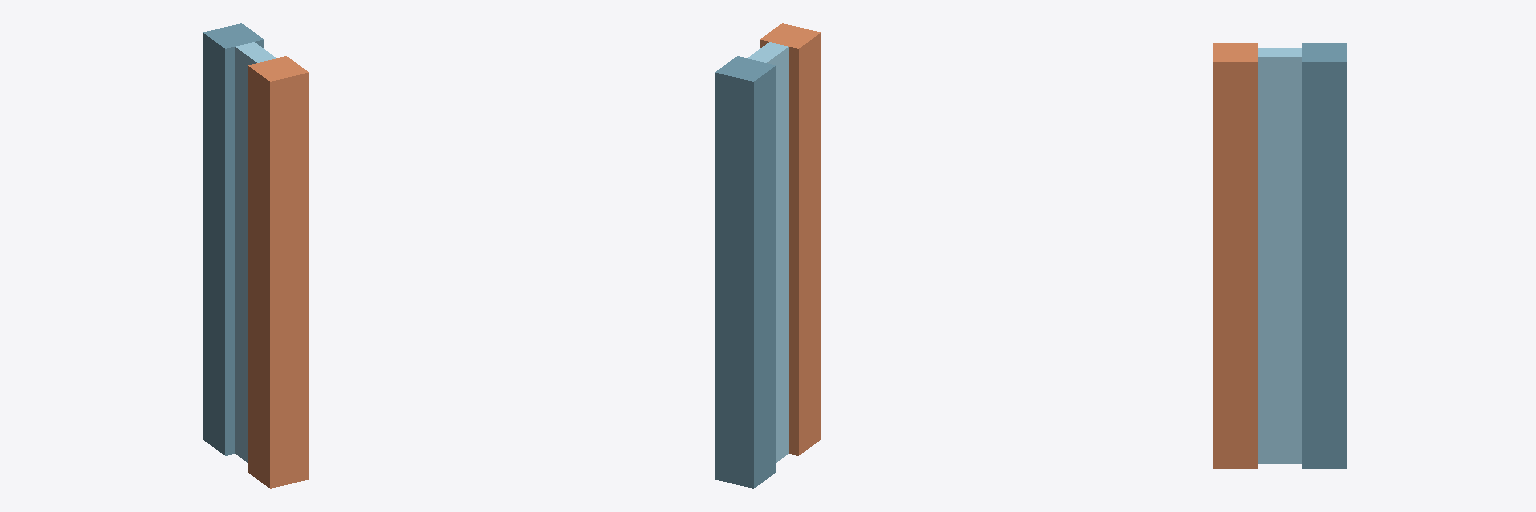
The model's file is wallArch.obj.
3 renders of one model, left to right at view 1: azimuth 30°, elevation 25°; view 2: azimuth 150°, elevation 25°; view 3: azimuth 270°, elevation 25°, orthographic.
Visible parts, largest first — view 1: wallArch; view 2: wallArch; view 3: wallArch.
Part boxes in pixels (bbox=[...]): wallArch: bbox=[203, 23, 308, 488]; wallArch: bbox=[715, 23, 820, 488]; wallArch: bbox=[1213, 43, 1346, 468].
Size of the model in its own units: 0.1 by 1 by 0.3.